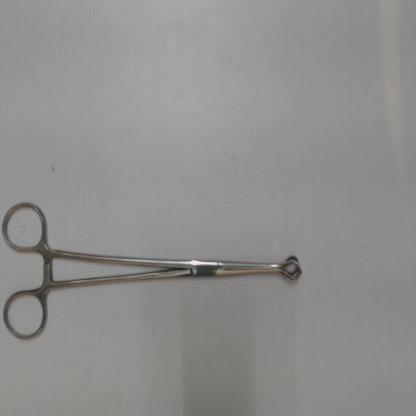8 Babcock Tissue Forceps: (1, 193, 315, 347)
